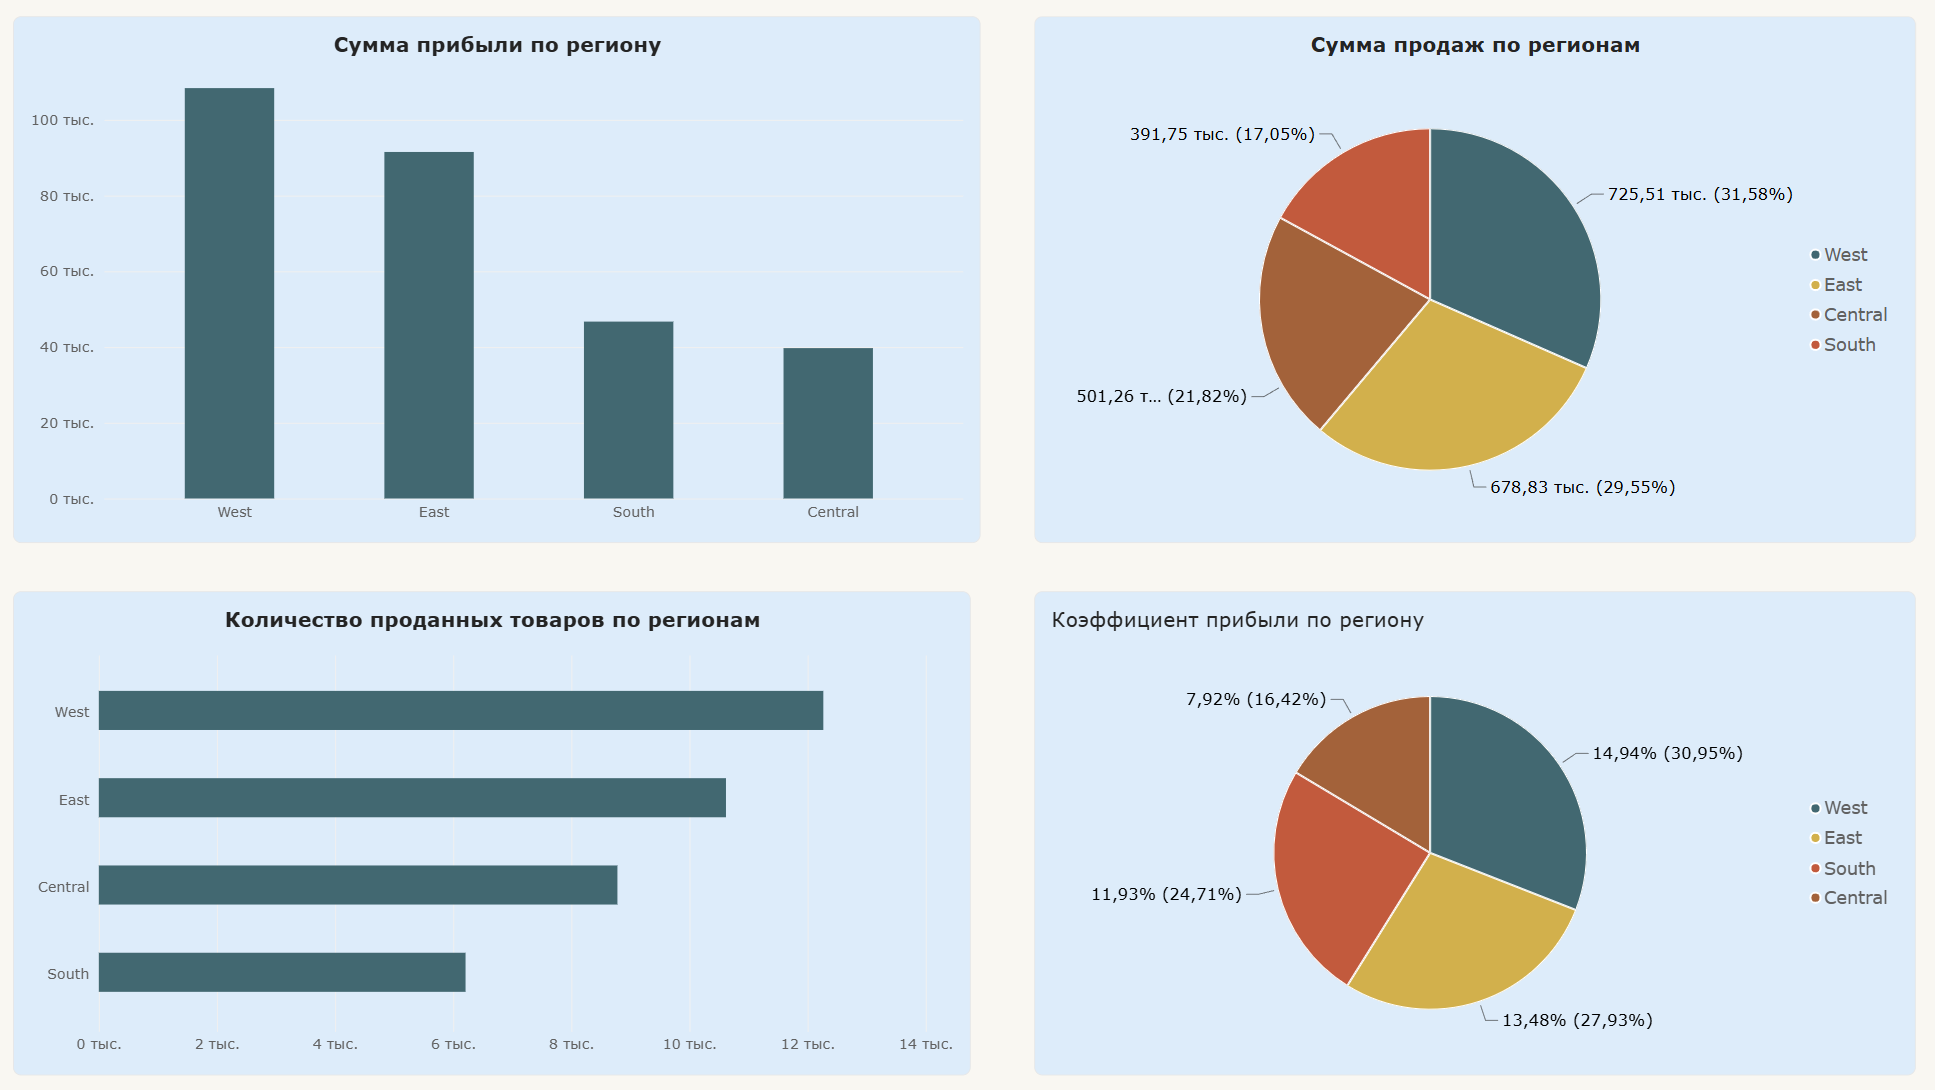

Layout of this report page (visuals, bound fields, positions):
{"tool":"powerbi","page":{"name":"Страница 3","canvas":[1920,1080],"ordinal":2},"visuals":[{"type":"pieChart","title":"Сумма продаж по регионам","fields":{"Category":["Sample - Superstore_Orders.Region"],"Y":["Sum(Sample - Superstore_Orders.Sales)"]},"box":[1021.3,25.9,860.6,514.7],"z":0},{"type":"clusteredColumnChart","title":"Сумма прибыли по региону","fields":{"Category":["Sample - Superstore_Orders.Region"],"Y":["Sum(Sample - Superstore_Orders.Profit)"]},"box":[24.5,25.9,945,514.7],"z":1000},{"type":"barChart","title":"Количество проданных товаров по регионам","fields":{"Category":["Sample - Superstore_Orders.Region"],"Y":["Sum(Sample - Superstore_Orders.Quantity)"]},"box":[24.5,586.9,935.5,472.5],"z":2000},{"type":"pieChart","title":" Коэффициент прибыли по региону","fields":{"Category":["Sample - Superstore_Orders.Region"],"Y":["Меры.Profit ratio"]},"box":[1021.3,586.9,860.6,472.5],"z":3000}]}

Visuals, with their boxes in screenshot pixels (x1, y1, x2, y2), scaled from the page's 1920x1080 canvas onto the 1935x1090 screenshot:
"Сумма продаж по регионам" pieChart: <bbox>1029, 26, 1897, 546</bbox>
"Сумма прибыли по региону" clusteredColumnChart: <bbox>25, 26, 977, 546</bbox>
"Количество проданных товаров по регионам" barChart: <bbox>25, 592, 968, 1069</bbox>
" Коэффициент прибыли по региону" pieChart: <bbox>1029, 592, 1897, 1069</bbox>
